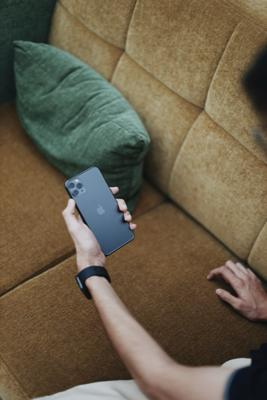Mobile Phone: (63, 165, 135, 257)
